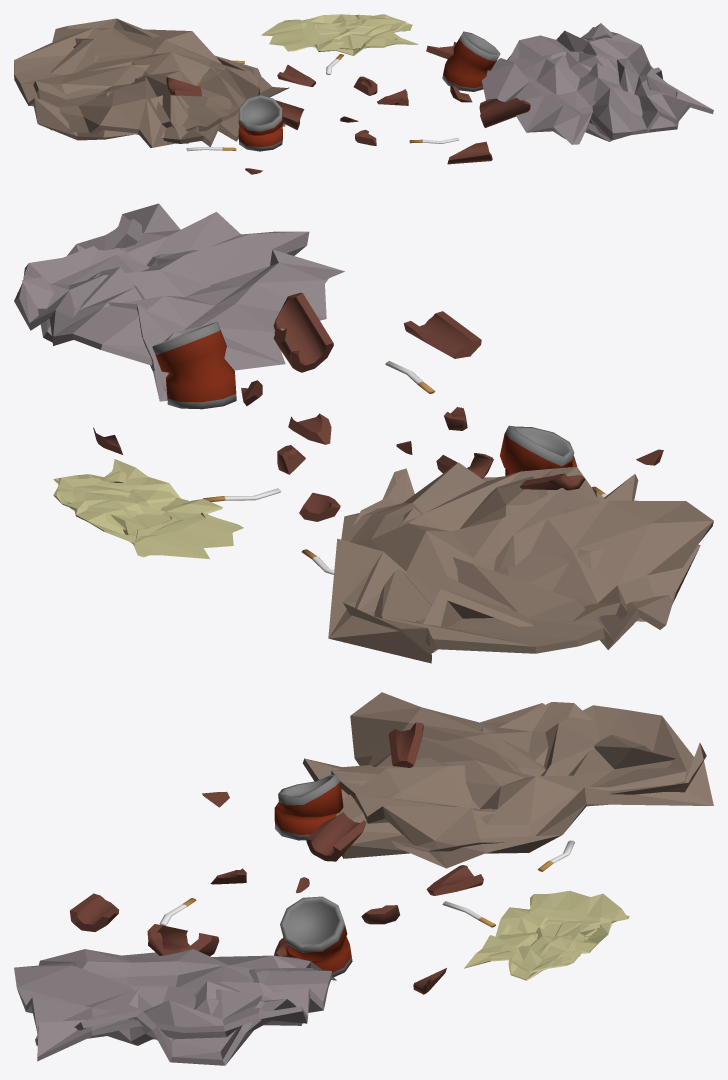
File: TrashPile.fbx
3 renders of one model, top to bottom at view 1: azimuth 30°, elevation 25°; view 2: azimuth 150°, elevation 25°; view 3: azimuth 270°, elevation 25°, orthographic. The views are drawn at different scales.
Parts seen in each view (by area): view 1: TrashPile; view 2: TrashPile; view 3: TrashPile.
Boxes of the visible parts, x1,y1,x2,y2 form: TrashPile: [14, 14, 713, 174]; TrashPile: [14, 203, 713, 663]; TrashPile: [14, 692, 713, 1065].
Size of the model in its own units: 147 by 15.45 by 123.
